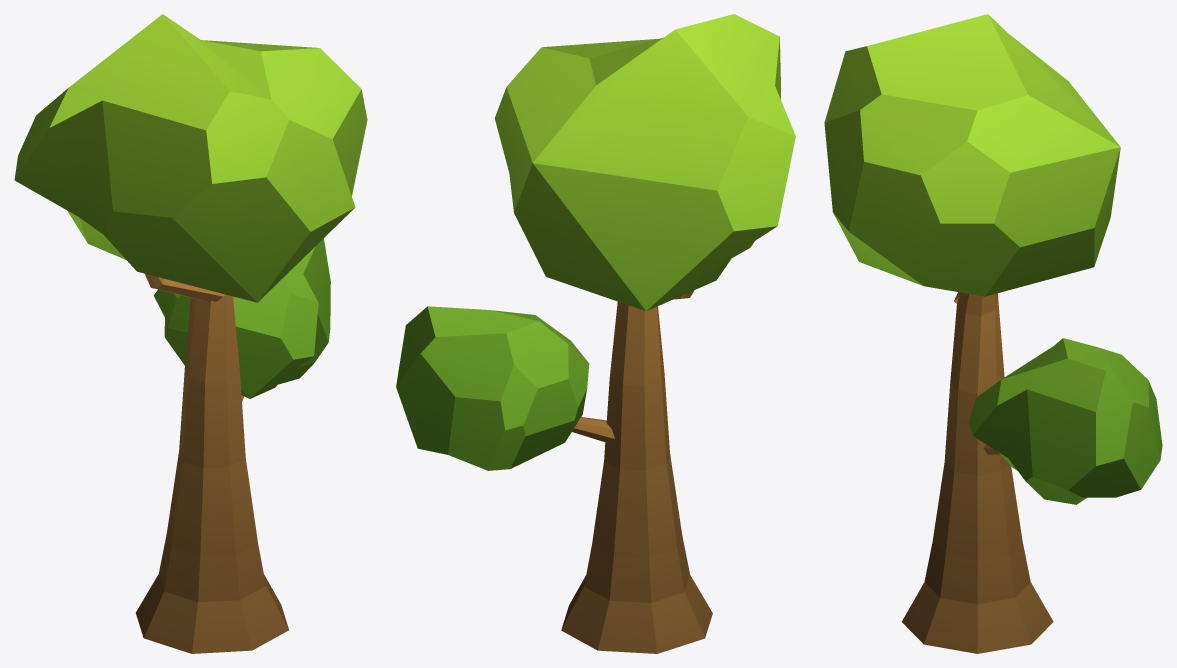
File: Tree002.fbx
The picture shows the model from 3 angles, left to right: view 1: azimuth 30°, elevation 25°; view 2: azimuth 150°, elevation 25°; view 3: azimuth 270°, elevation 25°; orthographic projection. The views are drawn at different scales.
Visible parts, largest first — view 1: Icosphere.003; view 2: Icosphere.003; view 3: Icosphere.003.
Part boxes in pixels (x1,y1,x2,y2): Icosphere.003: (14, 14, 367, 653); Icosphere.003: (396, 14, 795, 653); Icosphere.003: (824, 14, 1162, 653).
Bounding box in the file's own units: 262 × 439 × 229.
